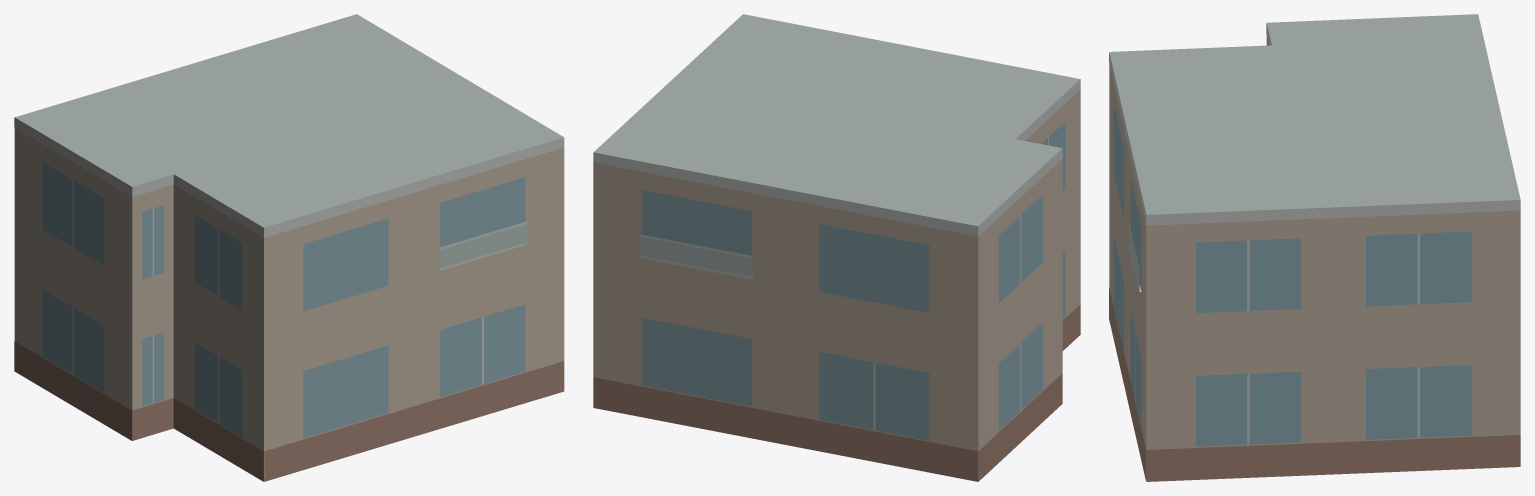
File: survey-upis-32915568.glb
3 renders of one model, left to right at view 1: azimuth 30°, elevation 25°; view 2: azimuth 150°, elevation 25°; view 3: azimuth 270°, elevation 25°, orthographic. The views are drawn at different scales.
Visible parts, largest first — view 1: survey-upis-32915568.tmp; view 2: survey-upis-32915568.tmp; view 3: survey-upis-32915568.tmp.
Boxes of the visible parts, bbox=[...] form: survey-upis-32915568.tmp: bbox=[14, 14, 564, 481]; survey-upis-32915568.tmp: bbox=[593, 14, 1080, 481]; survey-upis-32915568.tmp: bbox=[1109, 14, 1520, 481].
Size of the model in its own units: 9.86 by 6.1 by 8.53.
